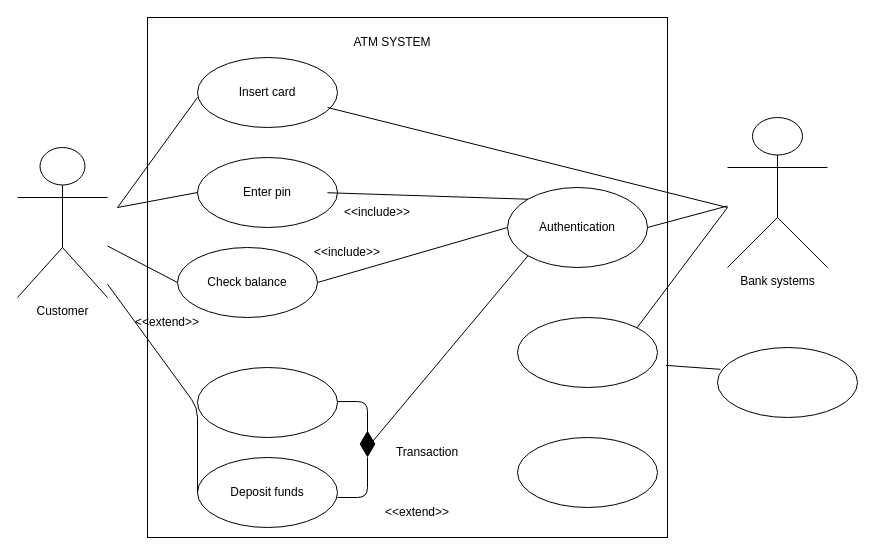
The diagram is 875 pixels wide and 555 high, and some of its shapes have lost their labels. Each missing label, with the centre of its shape:
"Get Account info" goes at pixel 787 382.
"Update Transaction" goes at pixel 587 472.
"Validate pin" goes at pixel 587 352.
"Witdraw cash" goes at pixel 267 402.
